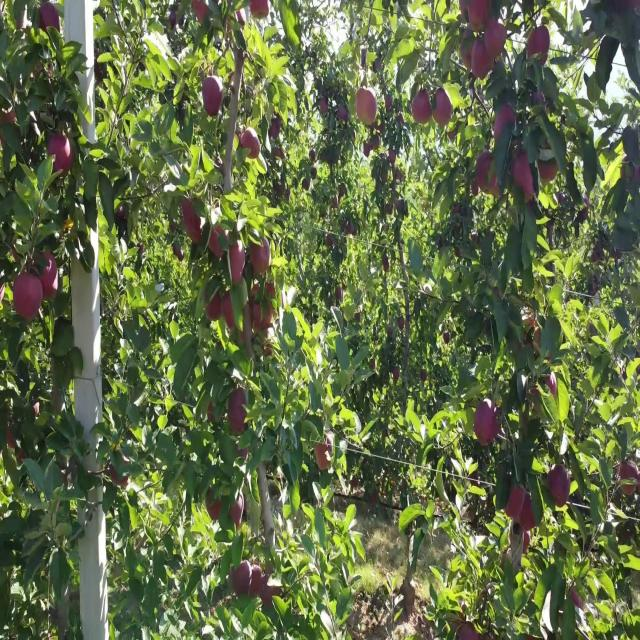apple: (12, 270, 43, 322), (476, 398, 501, 448), (512, 149, 535, 203), (504, 483, 532, 526), (48, 135, 75, 178), (512, 490, 536, 530), (548, 469, 572, 508), (528, 28, 552, 66), (532, 376, 559, 409), (484, 21, 508, 57), (228, 391, 248, 434), (472, 42, 494, 80), (40, 255, 59, 299), (252, 298, 275, 334), (204, 78, 224, 119), (228, 241, 246, 284), (432, 92, 453, 128), (496, 106, 517, 142), (476, 149, 495, 188), (208, 227, 230, 260), (620, 462, 640, 498), (252, 241, 272, 277), (356, 92, 377, 126), (232, 561, 251, 597), (8, 426, 26, 464), (412, 92, 432, 126), (524, 319, 542, 354), (460, 28, 474, 71), (472, 0, 492, 30), (0, 113, 17, 148), (540, 156, 560, 185), (520, 497, 536, 532), (316, 440, 333, 471), (40, 7, 60, 32), (112, 462, 129, 491), (224, 291, 236, 331), (0, 106, 17, 133), (192, 0, 210, 25), (188, 220, 204, 247), (252, 568, 266, 597), (208, 291, 221, 322), (208, 497, 223, 523), (232, 497, 244, 528), (264, 583, 280, 606), (184, 199, 198, 224), (248, 135, 260, 162), (624, 163, 640, 183), (256, 1, 271, 21), (572, 590, 584, 612), (4, 106, 17, 126), (263, 284, 276, 304), (532, 92, 546, 110), (240, 127, 251, 149), (8, 426, 17, 450), (252, 1, 263, 20), (272, 120, 282, 140), (16, 14, 26, 34), (472, 177, 481, 199), (208, 405, 217, 425), (16, 447, 25, 466), (524, 533, 532, 553), (252, 284, 260, 304), (460, 1, 469, 18), (268, 284, 276, 302), (236, 7, 245, 23), (320, 99, 328, 114), (340, 106, 348, 121), (176, 248, 184, 263), (364, 142, 372, 156), (276, 149, 284, 162), (444, 334, 452, 347), (328, 234, 333, 249), (456, 206, 462, 215), (396, 369, 400, 382), (36, 405, 40, 418), (372, 497, 378, 505)
